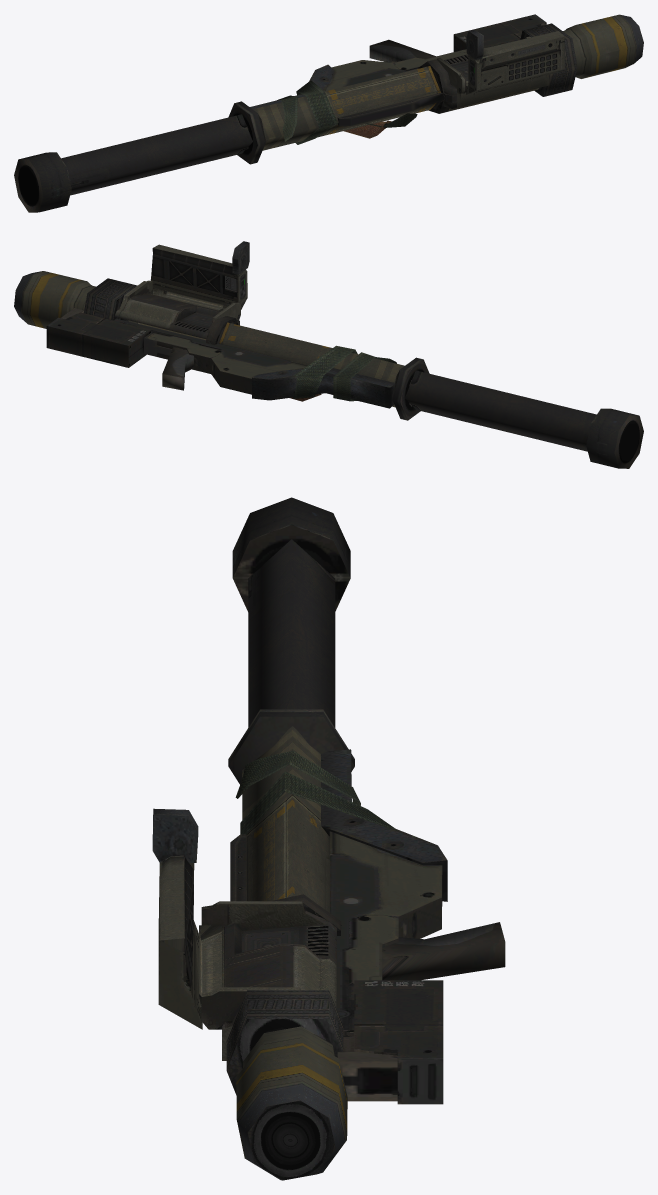
The model's file is t6_wpn_launch_fhj18_world_LOD1.obj.
3 renders of one model, top to bottom at view 1: azimuth 30°, elevation 25°; view 2: azimuth 150°, elevation 25°; view 3: azimuth 270°, elevation 25°, orthographic. The views are drawn at different scales.
Visible parts, largest first — view 1: mtl_t6_wpn_launch_fhj18_camo4, mtl_t6_wpn_launch_fhj18, mtl_t6_wpn_launch_fhj18_camo2, mtl_t6_wpn_launch_fhj18_camo3, mtl_t6_wpn_launch_fhj18_camo5; view 2: mtl_t6_wpn_launch_fhj18_camo4, mtl_t6_wpn_launch_fhj18_camo2, mtl_t6_wpn_launch_fhj18_camo3, mtl_t6_wpn_launch_fhj18, mtl_t6_wpn_launch_fhj18_camo5; view 3: mtl_t6_wpn_launch_fhj18_camo4, mtl_t6_wpn_launch_fhj18_camo2, mtl_t6_wpn_launch_fhj18_camo3, mtl_t6_wpn_launch_fhj18.
Boxes of the visible parts, x1,y1,x2,y2 form: mtl_t6_wpn_launch_fhj18_camo4: (61,14,564,195); mtl_t6_wpn_launch_fhj18: (253,14,635,150); mtl_t6_wpn_launch_fhj18_camo2: (14,14,643,212); mtl_t6_wpn_launch_fhj18_camo3: (250,24,584,138); mtl_t6_wpn_launch_fhj18_camo5: (18,167,38,204); mtl_t6_wpn_launch_fhj18_camo4: (46,244,596,451); mtl_t6_wpn_launch_fhj18_camo2: (14,271,643,468); mtl_t6_wpn_launch_fhj18_camo3: (60,241,395,408); mtl_t6_wpn_launch_fhj18: (22,271,404,407); mtl_t6_wpn_launch_fhj18_camo5: (619,423,639,460); mtl_t6_wpn_launch_fhj18_camo4: (158,539,443,1060); mtl_t6_wpn_launch_fhj18_camo2: (226,497,505,1180); mtl_t6_wpn_launch_fhj18_camo3: (152,749,447,1104); mtl_t6_wpn_launch_fhj18: (199,726,347,1180).
Size of the model in its own units: 118 by 18.98 by 29.81.
